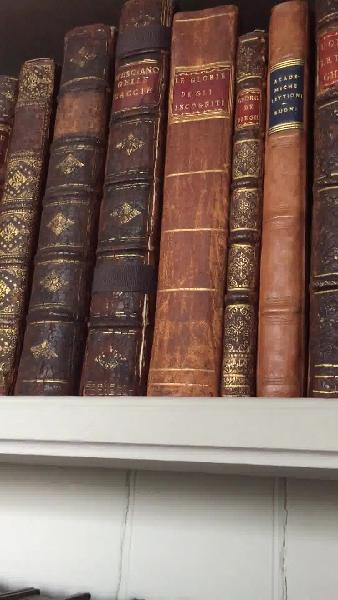Aa6-30: (6, 45, 47, 397)
Aa6-31: (17, 24, 121, 402)
Aa6-32: (98, 6, 171, 420)
Aa6-33: (146, 6, 232, 396)
Aa6-34: (223, 15, 263, 395)
Aa6-35: (261, 6, 307, 412)
